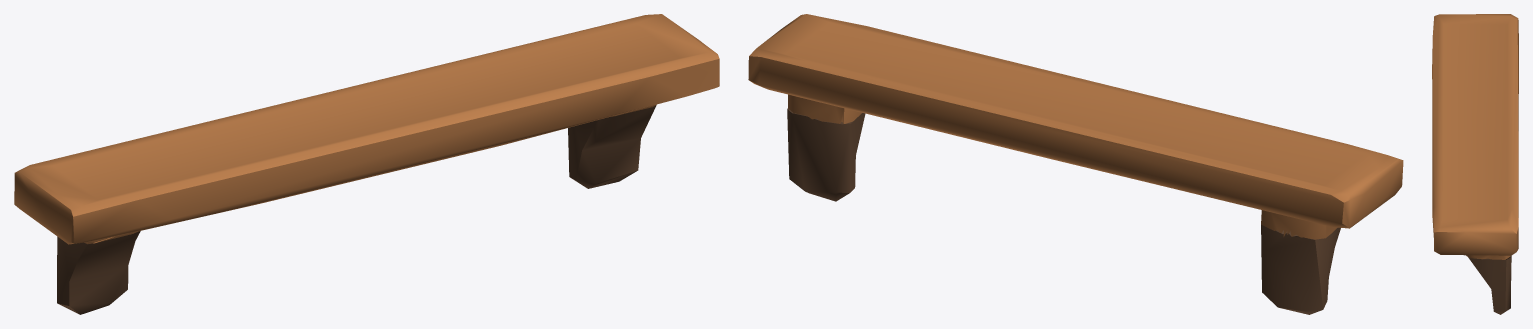
The model's file is wallShelf.glb.
3 renders of one model, left to right at view 1: azimuth 30°, elevation 25°; view 2: azimuth 150°, elevation 25°; view 3: azimuth 270°, elevation 25°, orthographic. The views are drawn at different scales.
Parts seen in each view (by area): view 1: wallShelf_wood, wallShelf_bracket; view 2: wallShelf_wood, wallShelf_bracket; view 3: wallShelf_wood, wallShelf_bracket.
Part boxes in pixels (x1,y1,x2,y2): wallShelf_wood: (14, 14, 719, 244); wallShelf_bracket: (57, 105, 656, 314); wallShelf_wood: (748, 14, 1403, 239); wallShelf_bracket: (787, 108, 1340, 314); wallShelf_wood: (1432, 14, 1518, 259); wallShelf_bracket: (1468, 255, 1511, 314).
Bounding box in the file's own units: 1.9 × 0.4229 × 0.3196.
